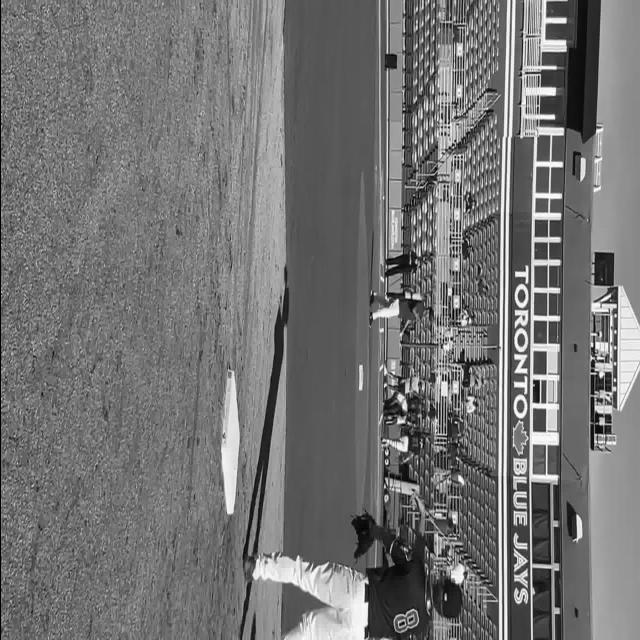base: (220, 368, 238, 520)
baseball_glove: (350, 509, 376, 561)
shoe: (242, 554, 255, 582), (369, 290, 374, 304), (368, 311, 372, 327)
